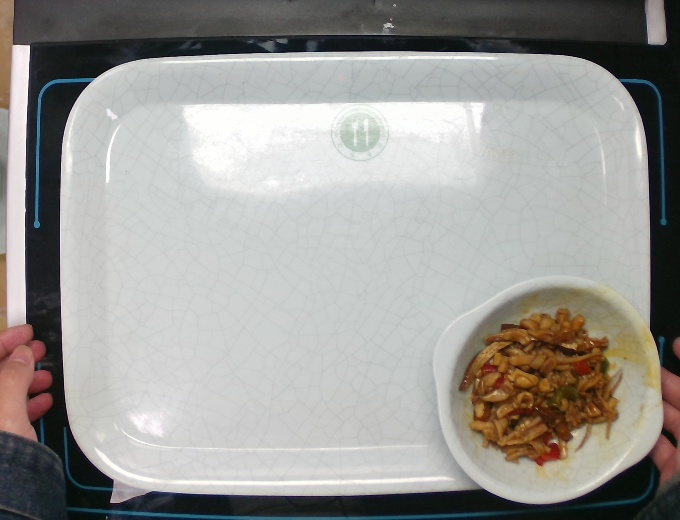JYsf-Shuang_Er_Wan: (429, 272, 669, 505)
